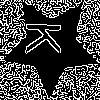K: (25, 20, 70, 56)
